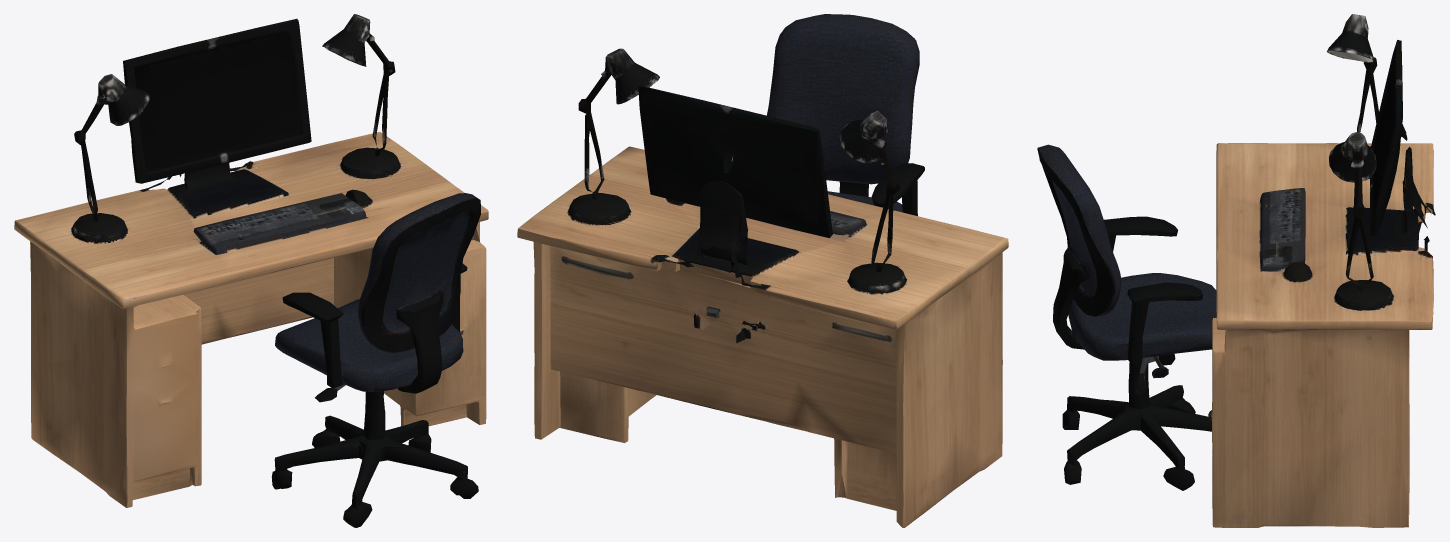
Rendered from desk.glb.
The picture shows the model from 3 angles, left to right: view 1: azimuth 30°, elevation 25°; view 2: azimuth 150°, elevation 25°; view 3: azimuth 270°, elevation 25°; orthographic projection. The views are drawn at different scales.
Parts seen in each view (by area): view 1: desk; view 2: desk; view 3: desk.
Boxes of the visible parts, <box> form: desk: <box>14,14,488,527</box>; desk: <box>517,14,1008,527</box>; desk: <box>1037,14,1435,527</box>.
Size of the model in its own units: 1.24 by 1.2 by 1.18.
Materials: 1 (1 with a texture image).
